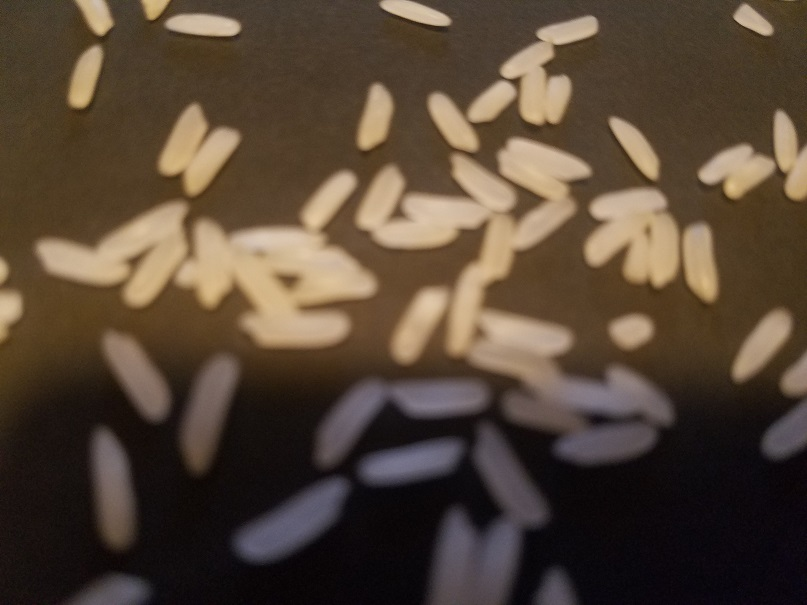egg: (234, 477, 347, 564), (468, 421, 549, 526), (180, 351, 246, 477), (309, 377, 390, 469), (97, 326, 172, 424), (96, 200, 191, 264), (119, 224, 189, 310), (90, 425, 136, 551), (357, 435, 465, 485), (471, 513, 529, 605), (427, 503, 478, 604), (474, 306, 574, 357), (389, 284, 449, 367), (552, 421, 658, 466), (731, 308, 793, 383), (34, 235, 127, 285), (235, 311, 349, 351), (527, 371, 635, 413), (228, 254, 299, 317), (182, 124, 242, 198), (448, 152, 519, 213), (609, 361, 675, 426), (444, 259, 485, 360), (496, 147, 572, 201), (156, 101, 209, 178), (503, 389, 588, 436), (300, 166, 359, 233), (466, 339, 564, 379), (508, 197, 578, 252), (505, 137, 592, 181), (194, 219, 234, 313), (582, 216, 649, 271), (353, 163, 407, 231), (607, 116, 663, 181), (426, 89, 482, 153), (253, 244, 364, 276), (682, 218, 721, 309), (392, 381, 490, 417), (401, 192, 492, 230), (759, 396, 807, 461), (354, 78, 396, 152), (293, 270, 379, 306), (228, 224, 324, 256), (368, 218, 459, 250), (586, 186, 669, 219), (695, 143, 753, 188), (74, 572, 152, 605), (66, 42, 103, 110), (466, 77, 518, 125), (722, 154, 774, 202), (497, 37, 556, 78), (479, 212, 515, 279), (650, 213, 681, 289), (377, 1, 456, 28), (164, 11, 242, 38), (534, 13, 599, 45), (771, 107, 800, 172), (518, 67, 548, 127), (610, 313, 654, 352), (72, 1, 117, 38), (730, 1, 775, 38), (620, 233, 651, 286), (532, 567, 576, 604), (781, 143, 807, 203), (778, 350, 807, 400), (547, 74, 574, 125), (1, 289, 24, 322), (173, 258, 195, 289), (136, 1, 167, 21), (1, 254, 10, 285), (1, 323, 11, 338)
